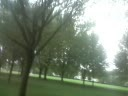window: (74, 51, 101, 96), (1, 40, 22, 86), (13, 0, 36, 26), (50, 1, 66, 28), (84, 5, 100, 32), (117, 9, 128, 35)
